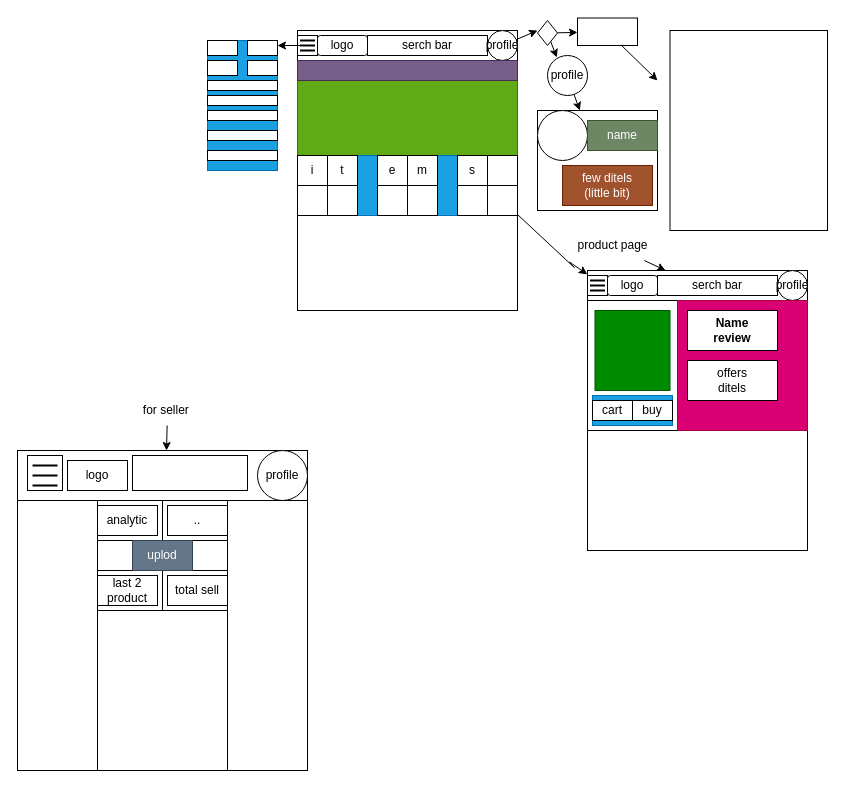
This 845x788 diagram has some shape labels left out. Each missing label, with the centre of its shape:
categores: point (407, 70)
images (slide): point (632, 350)
login: point (607, 31)
login page and sing up pages: point (748, 130)
search: point (190, 472)
